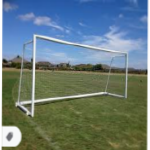goals: (14, 32, 130, 119)
